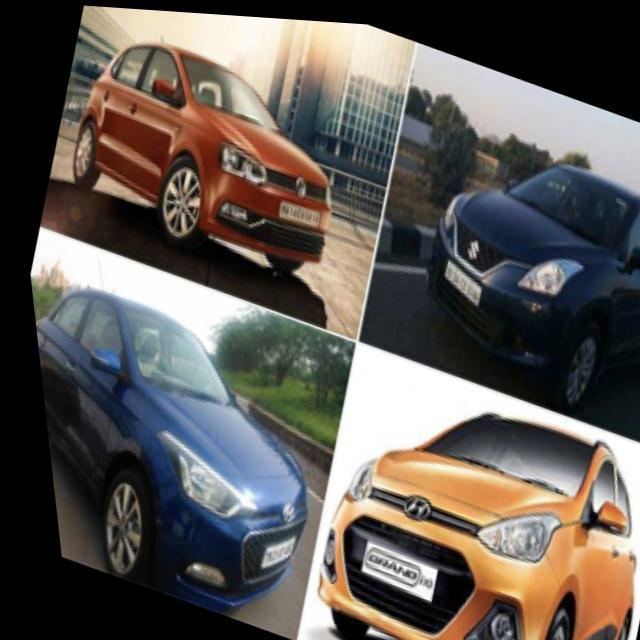license_plate: (330, 518, 438, 606), (234, 507, 298, 593), (264, 191, 338, 245), (430, 250, 484, 302)
